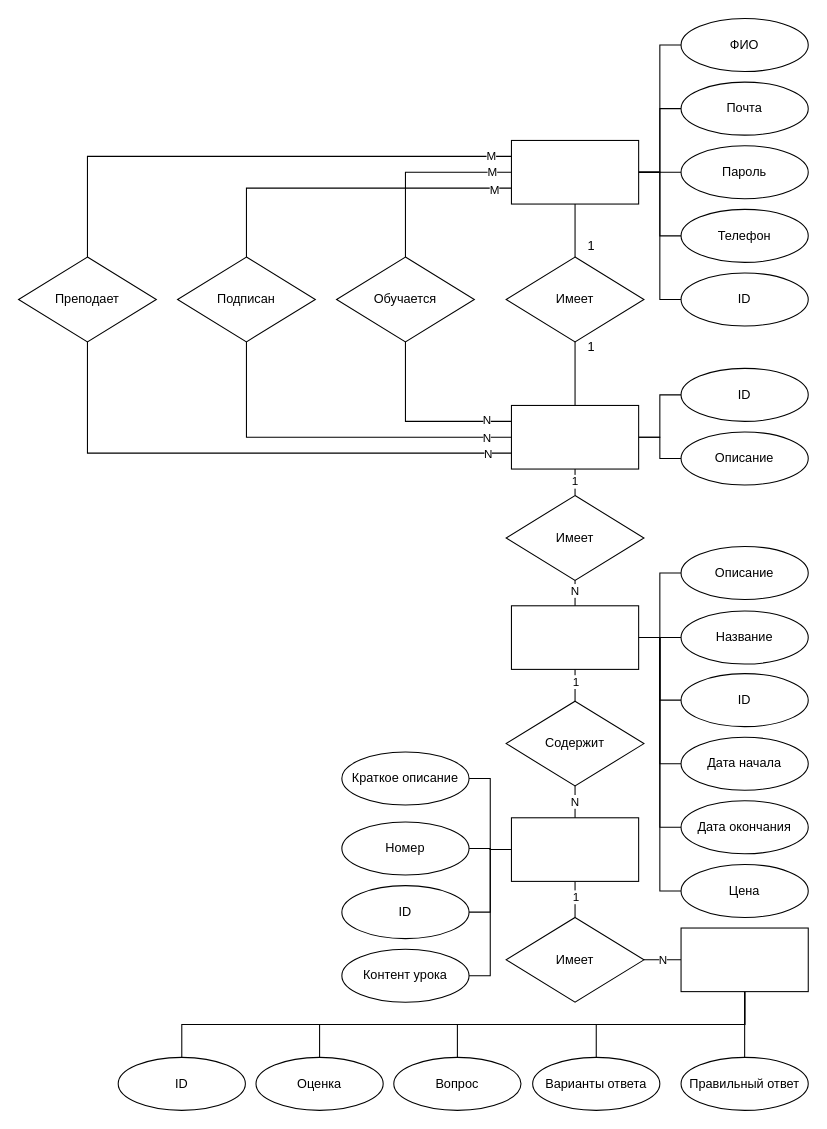
Some shapes in this 827 by 1129 pixel diagram are drawn without their labels. The box of each missing label's shape, as (x1, y1, x2, y2) in pixels:
Курс: (510, 605, 639, 669)
Пользователь: (510, 139, 639, 204)
Тест: (680, 927, 808, 992)
Урок: (510, 817, 639, 881)
Школа: (510, 404, 639, 469)
